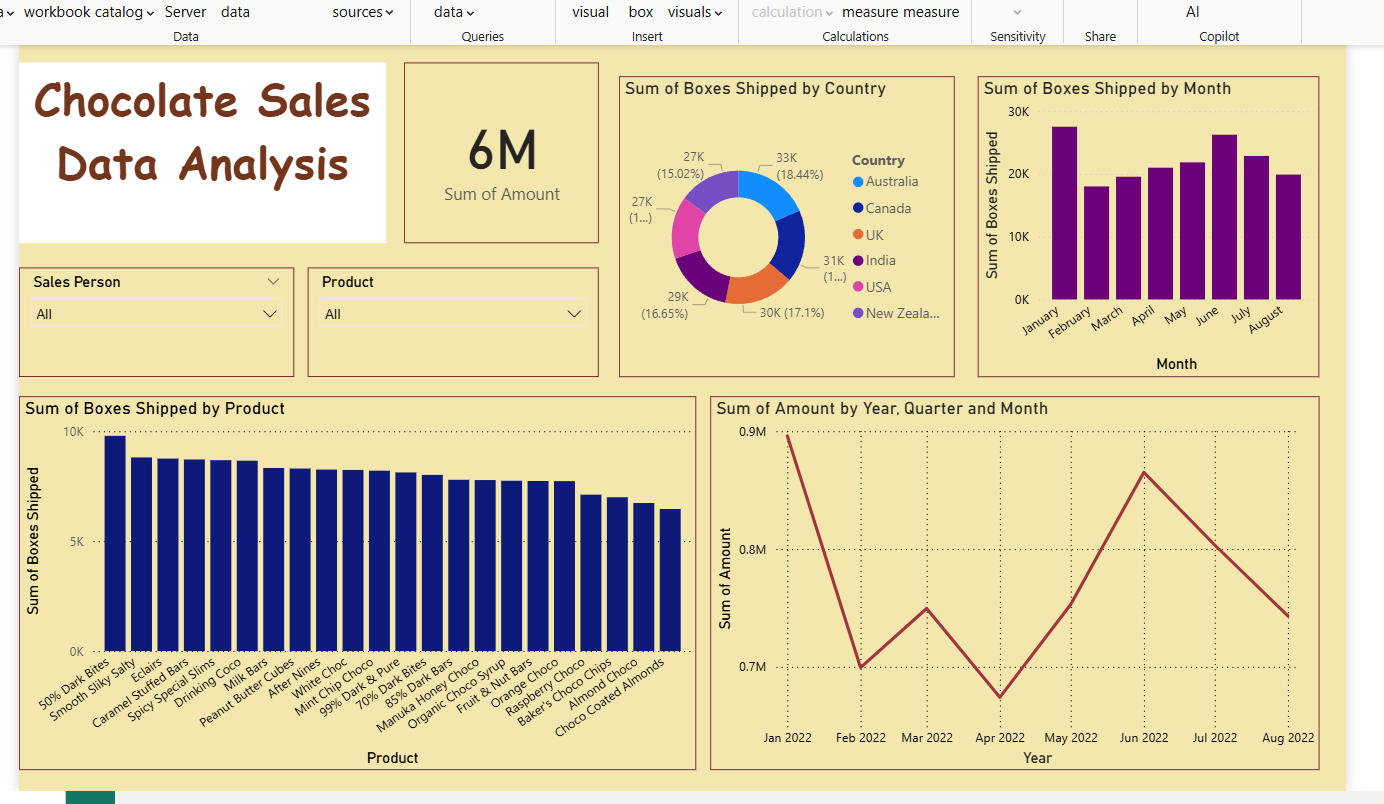

The dashboard page shown, as its layout file describes it:
{"tool":"powerbi","page":{"name":"Page 1","canvas":[1280,720],"ordinal":0},"visuals":[{"type":"donutChart","fields":{"Category":["data.Country"],"Y":["Sum(data.Boxes Shipped)"]},"box":[579.5,30.2,324.2,290.6],"z":0},{"type":"clusteredColumnChart","fields":{"Category":["data.Product"],"Y":["Sum(data.Boxes Shipped)"]},"box":[0,339.3,653.4,361.2],"z":1},{"type":"lineChart","fields":{"Category":["data.Date.Variation.Date Hierarchy.Year","data.Date.Variation.Date Hierarchy.Quarter","data.Date.Variation.Date Hierarchy.Month"],"Y":["Sum(data.Amount)"]},"box":[666.9,339.3,587.9,361.2],"z":2},{"type":"columnChart","fields":{"Category":["data.Date.Variation.Date Hierarchy.Month","data.Date.Variation.Date Hierarchy.Day"],"Y":["Sum(data.Boxes Shipped)"]},"box":[925.6,30.2,329.2,290.6],"z":3},{"type":"card","fields":{"Values":["Sum(data.Amount)"]},"box":[371.2,16.8,188.1,174.7],"z":4},{"type":"slicer","fields":{"Values":["data.Sales Person"]},"box":[0,215,265.4,105.8],"z":5},{"type":"slicer","fields":{"Values":["data.Product"]},"box":[278.8,215,280.5,105.8],"z":6},{"type":"textbox","box":[0,16.8,354.4,174.7],"z":7}]}

Visuals, with their boxes on the page's 1280x720 design canvas (x1, y1, x2, y2). These are canvas units, not pixel positions in the 1384x804 screenshot, which may show the page scaled, cropped or inside an application window:
donutChart - data.Country x Sum(data.Boxes Shipped): l=580, t=30, r=904, b=321
clusteredColumnChart - data.Product x Sum(data.Boxes Shipped): l=0, t=339, r=653, b=700
lineChart - data.Date.Variation.Date Hierarchy.Year x data.Date.Variation.Date Hierarchy.Quarter: l=667, t=339, r=1255, b=700
columnChart - data.Date.Variation.Date Hierarchy.Month x data.Date.Variation.Date Hierarchy.Day: l=926, t=30, r=1255, b=321
card - Sum(data.Amount): l=371, t=17, r=559, b=192
slicer - data.Sales Person: l=0, t=215, r=265, b=321
slicer - data.Product: l=279, t=215, r=559, b=321
textbox: l=0, t=17, r=354, b=192
